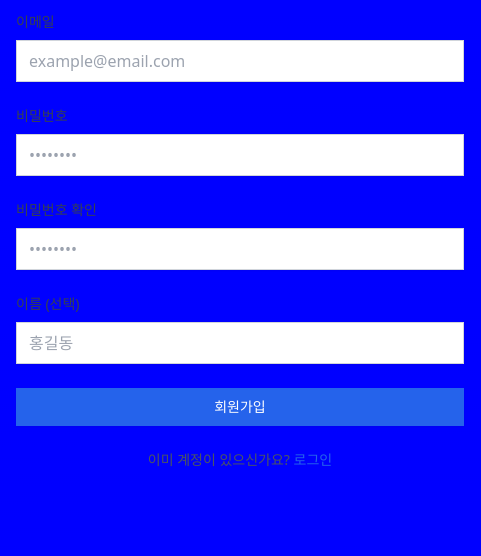
SignUpForm Component - TASK-009 › should show validation errors for empty fields
What coordinates should you click on to do the following:
click the button "회원가입"
I would click on:
 (240, 407)
Its box is [16, 388, 464, 426].
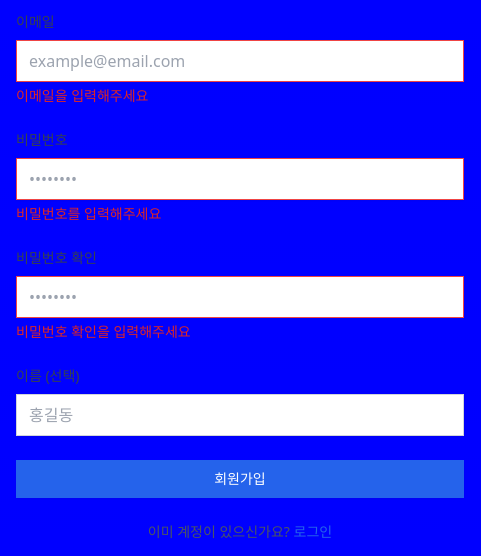
Check: the text "이메일을 입력해주세요" is shown, box [16, 86, 148, 105]
